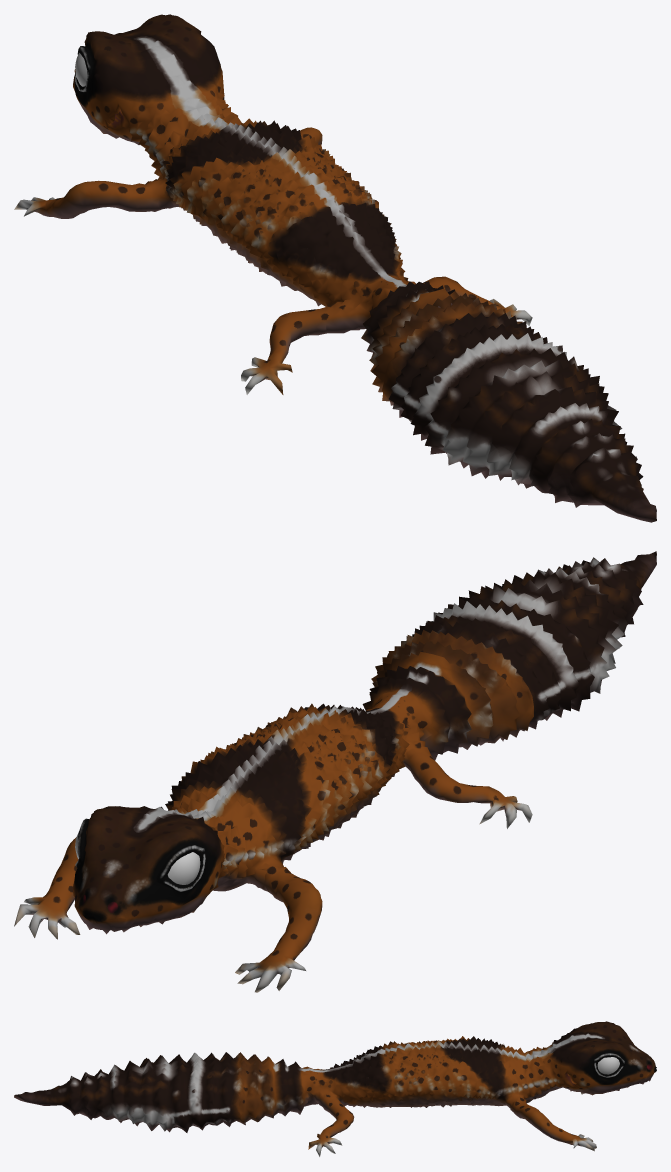
Rendered from gecko.fbx.
3 views of the same model, one above another, from view 1: azimuth 30°, elevation 25°; view 2: azimuth 150°, elevation 25°; view 3: azimuth 270°, elevation 25° (orthographic). The views are drawn at different scales.
Visible parts, largest first — view 1: Body; view 2: Body, Eyes; view 3: Body, Eyes.
Boxes of the visible parts, box(x1,y1,x2,y2) form: Body: box(14, 14, 656, 522); Body: box(14, 551, 656, 992); Eyes: box(75, 831, 200, 884); Body: box(14, 1021, 656, 1156); Eyes: box(597, 1057, 619, 1074).
Bounding box in the file's own units: 154 × 76.86 × 523.
